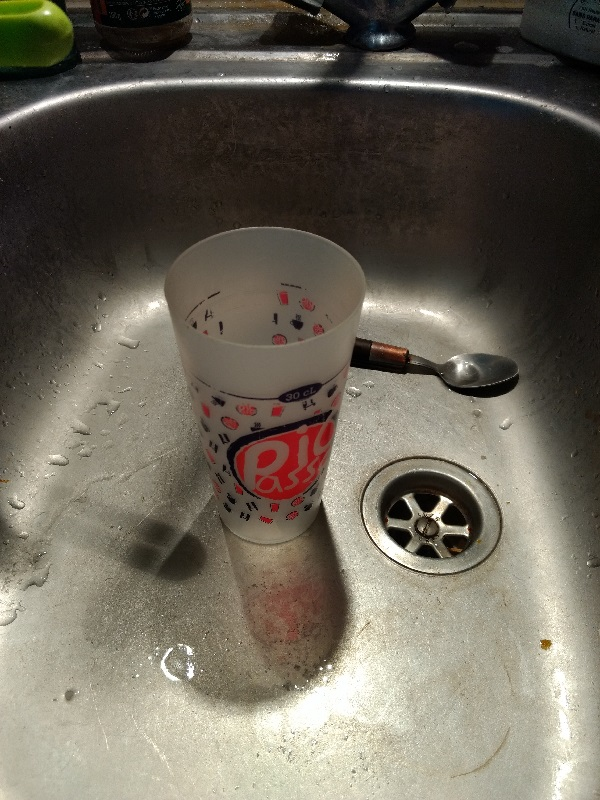ecocup: (162, 225, 369, 543)
